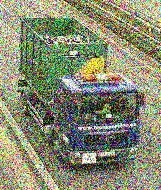truck: (17, 17, 143, 167)
